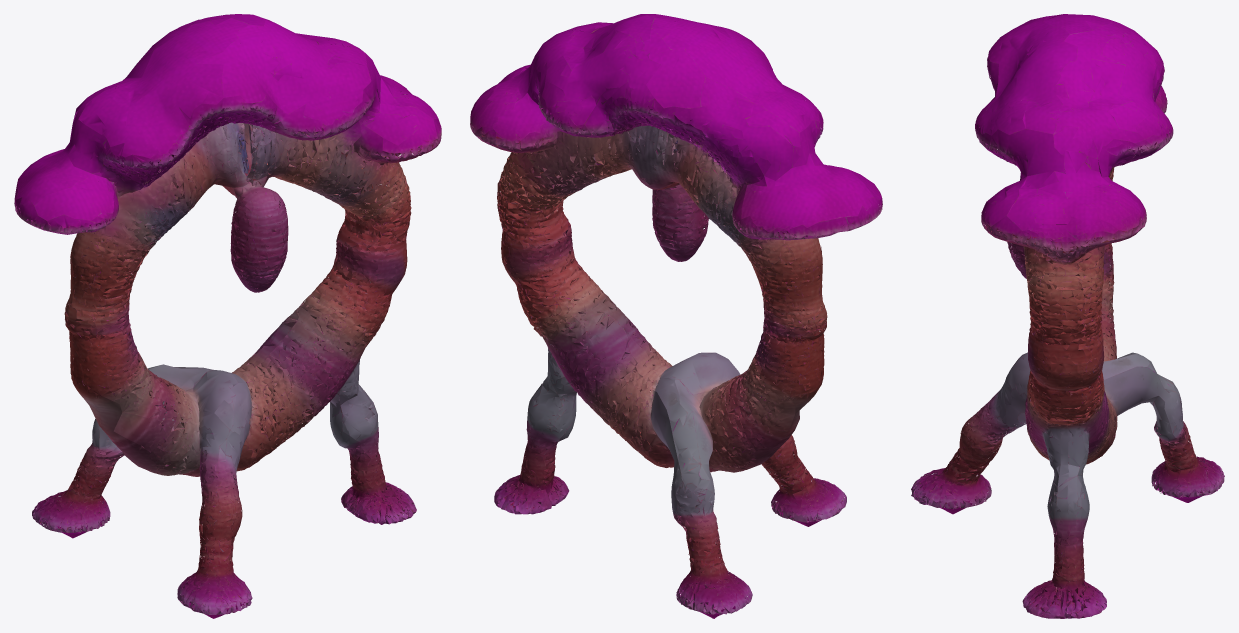
File: annular-canopy-founder-clay-depth-normal-lineage-metabolizer-seed718501.glb
3 views of the same model, side by side, from view 1: azimuth 30°, elevation 25°; view 2: azimuth 150°, elevation 25°; view 3: azimuth 270°, elevation 25° (orthographic).
Parts seen in each view (by area): view 1: world; view 2: world; view 3: world.
Boxes of the visible parts, bbox=[...] form: world: bbox=[14, 14, 441, 618]; world: bbox=[470, 14, 882, 618]; world: bbox=[911, 14, 1224, 618].
Bounding box in the file's own units: 0.7836 × 0.9993 × 0.5397.
1 material, 1 textured.
